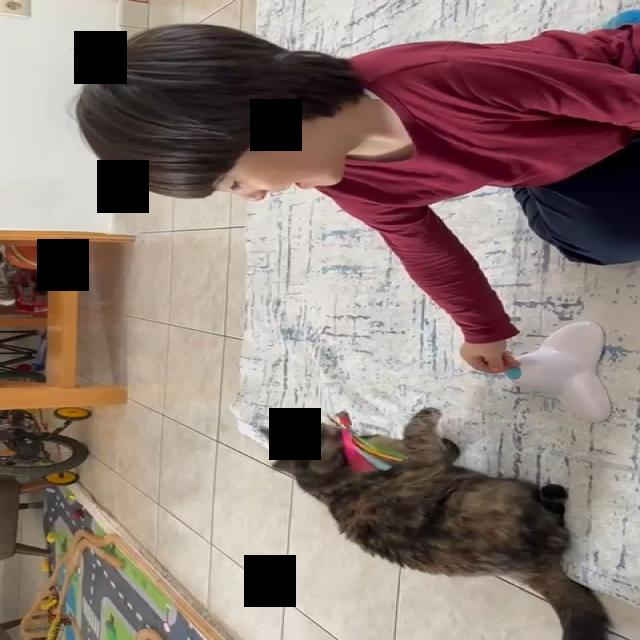authorized: (259, 406, 613, 639)
